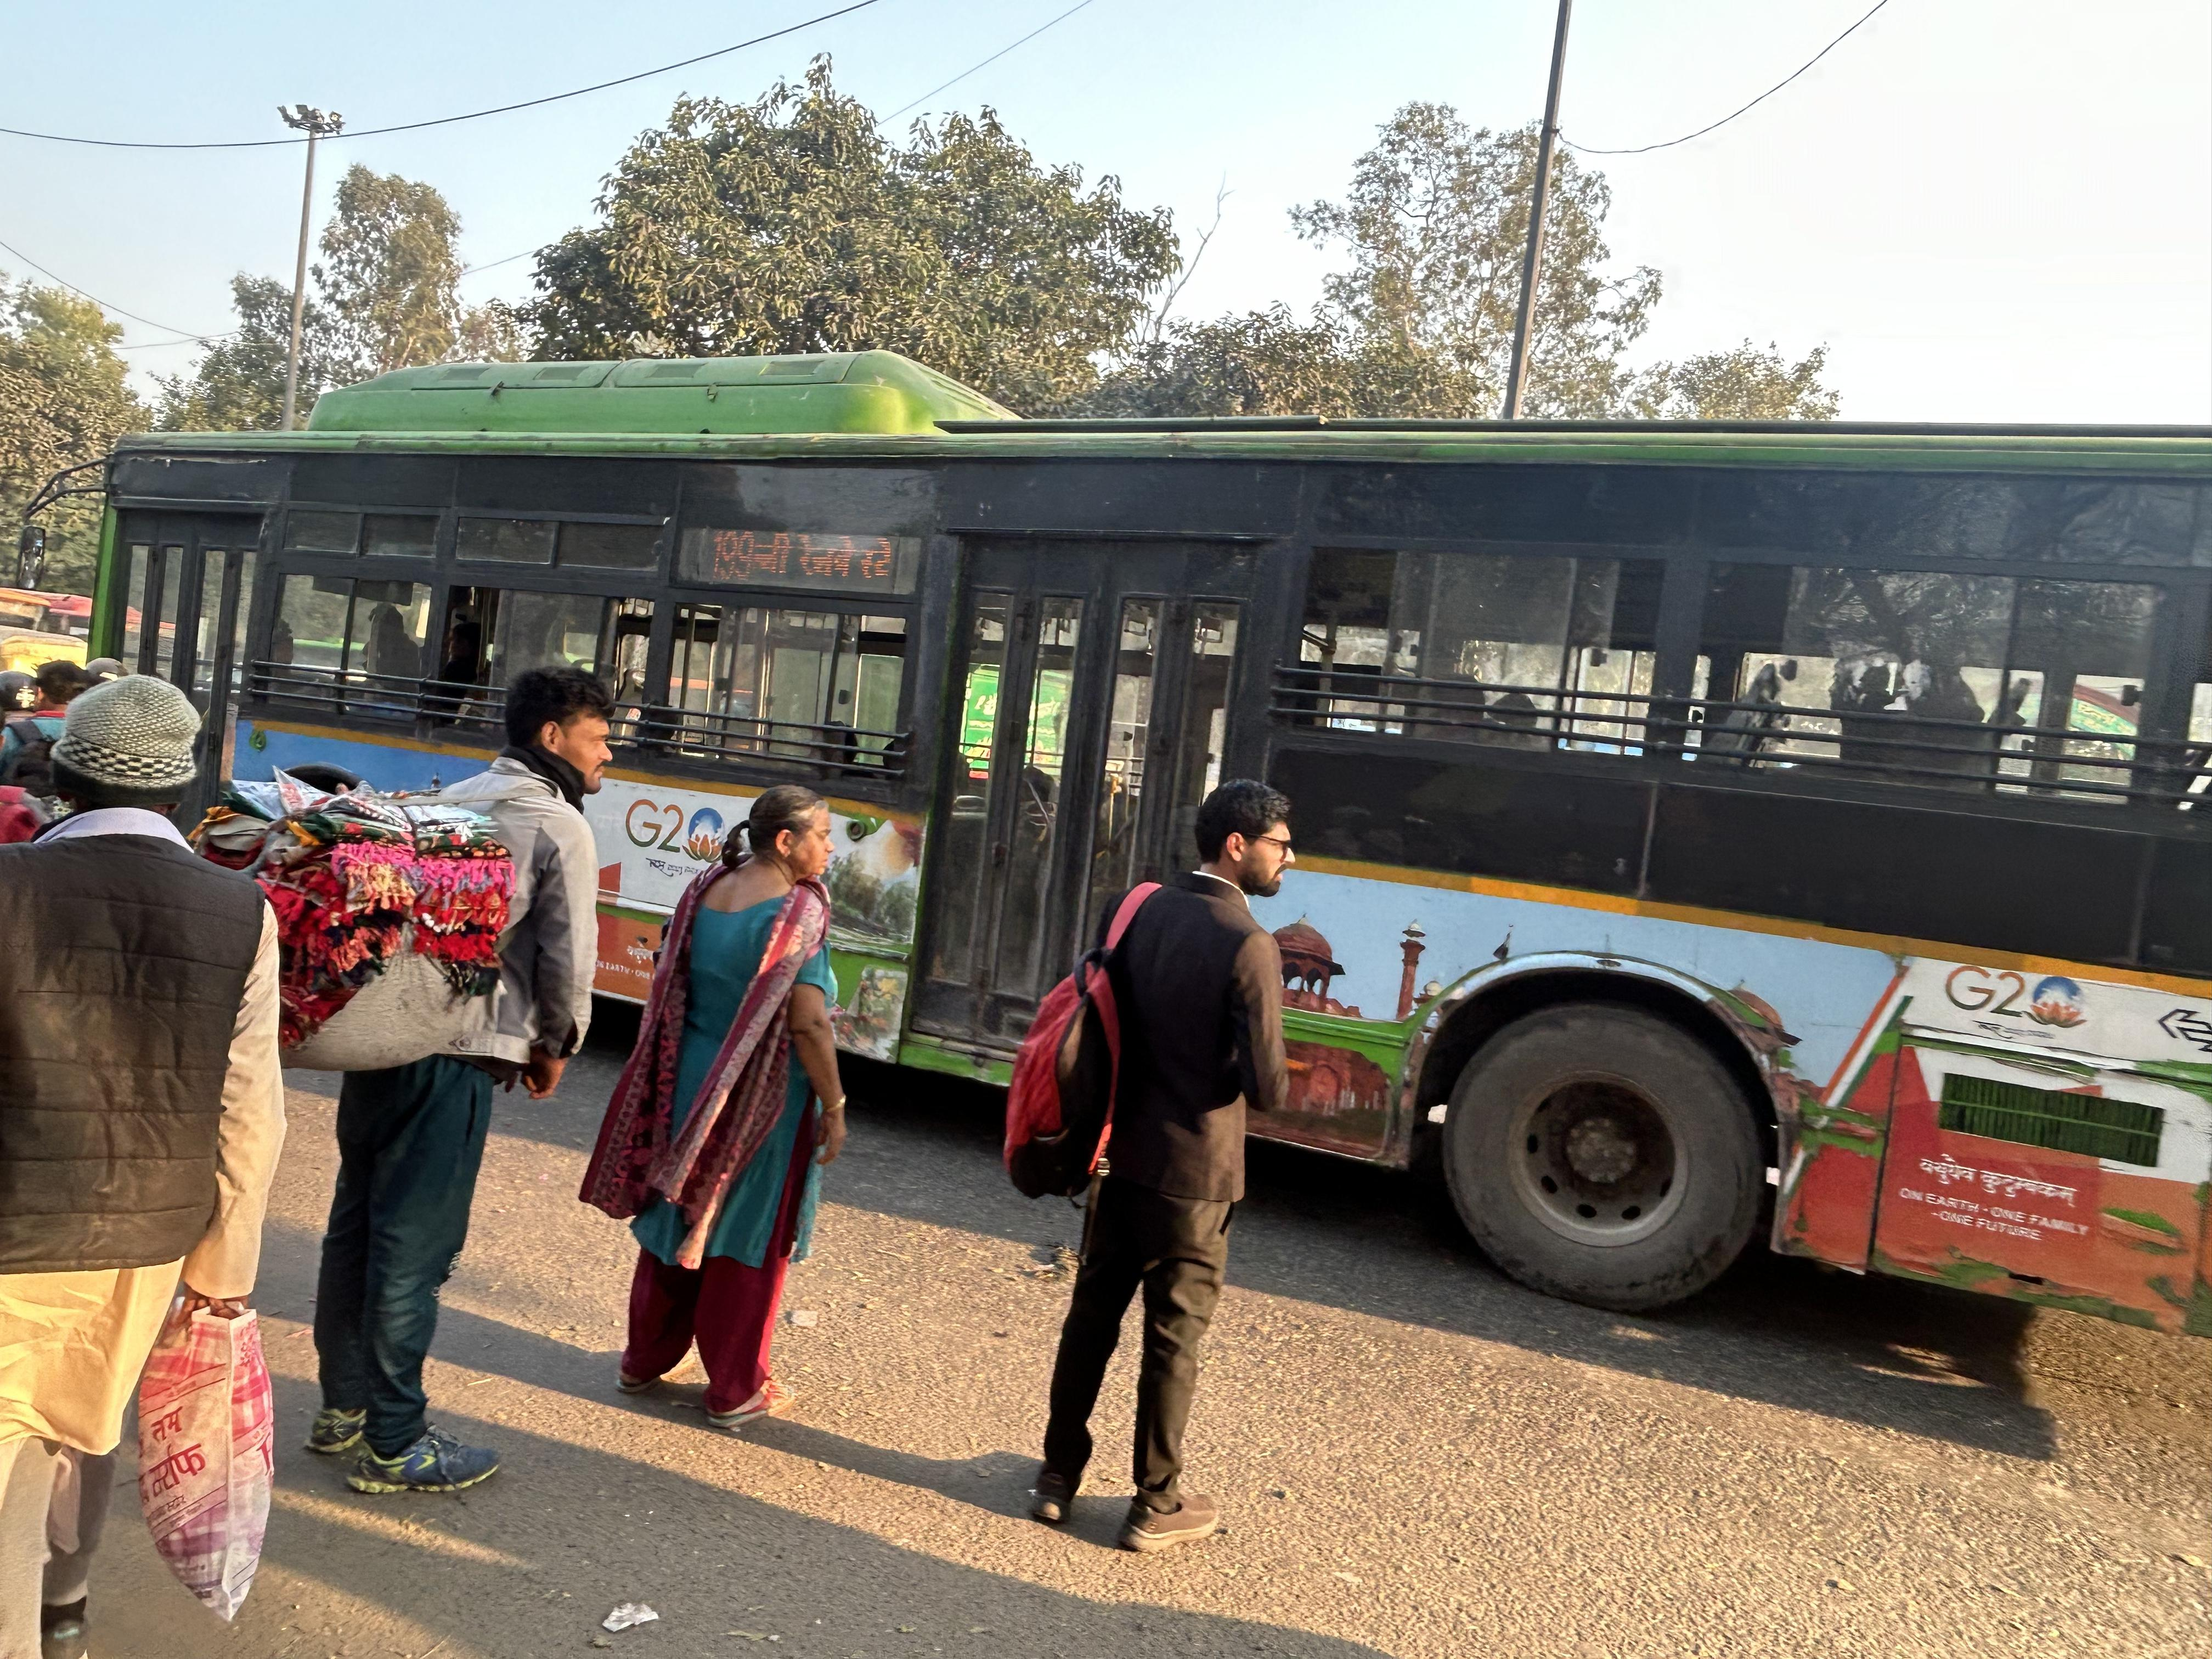Bus: (87, 335, 2212, 1300)
Display Board: (669, 472, 954, 626)
